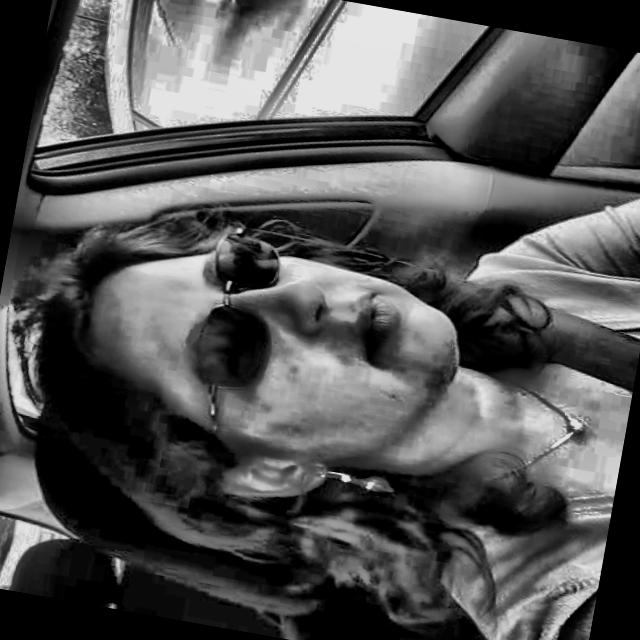closed_mouth: (340, 274, 417, 379)
